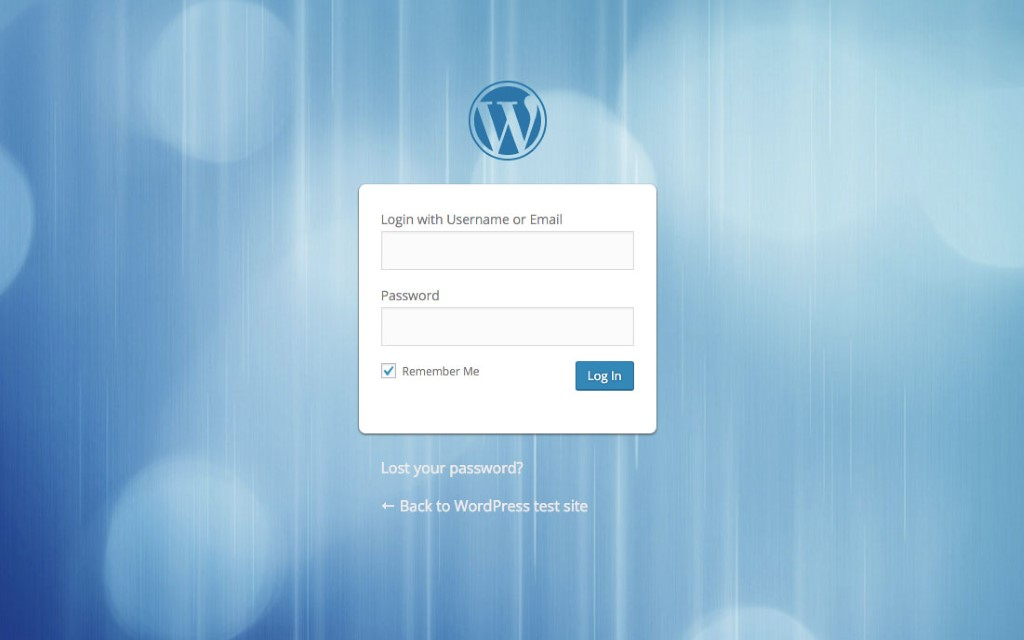button: (576, 360, 633, 392)
button_login: (575, 360, 633, 392)
checkbox: (382, 363, 397, 377)
label_Username: (446, 211, 513, 226)
label_email: (529, 211, 564, 225)
label_password: (380, 287, 442, 303)
label_remember: (400, 360, 484, 380)
textbox: (381, 306, 633, 345), (382, 231, 634, 268)
